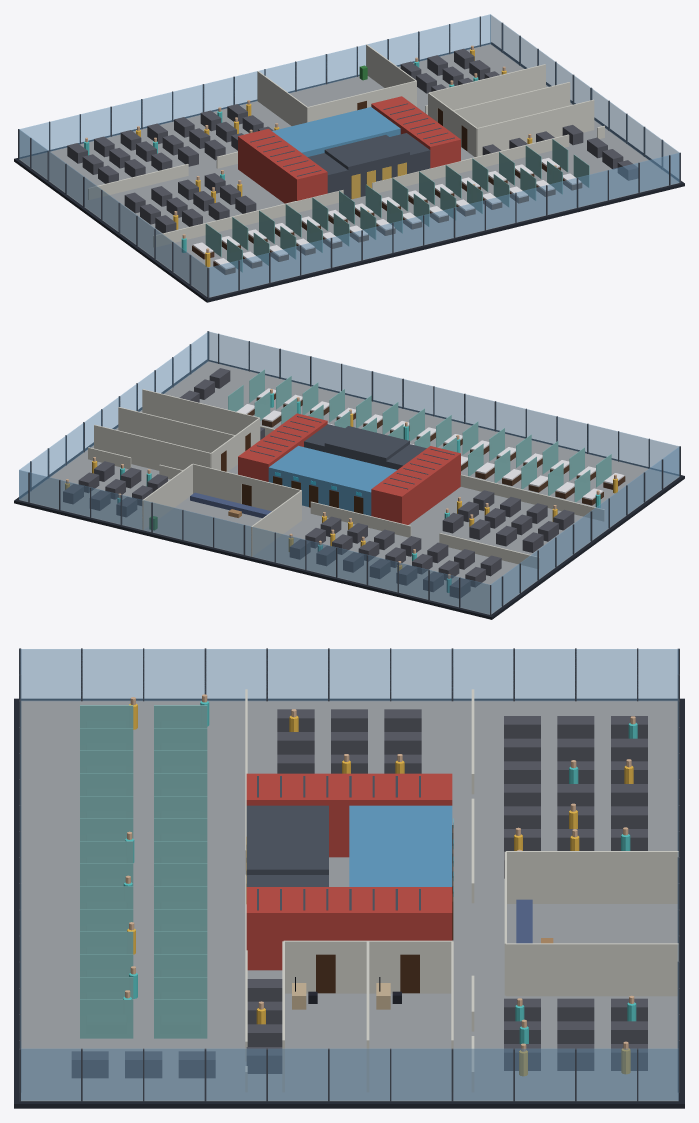
3 renders of one model, top to bottom at view 1: azimuth 30°, elevation 25°; view 2: azimuth 150°, elevation 25°; view 3: azimuth 270°, elevation 25°, orthographic. The views are drawn at different scales.
Visible parts, largest first — view 1: L5_glass, L5_floor_tile, L5_wall, L5_equip, L5_curtain, L5_core, L5_stair, L5_slab, L5_wash, L5_bed, L5_bed_frame, L5_lift; view 2: L5_glass, L5_floor_tile, L5_wall, L5_equip, L5_curtain, L5_core, L5_stair, L5_slab, L5_wash, L5_bed, L5_bed_frame, L5_door_closed (+2 smaller); view 3: L5_floor_tile, L5_glass, L5_curtain, L5_equip, L5_wall, L5_stair, L5_core, L5_slab, L5_wash, L5_door_closed, L5_role_nurse, L5_person_skin (+4 smaller).
Part boxes in pixels (bbox=[...]): L5_glass: bbox=[19, 14, 679, 296]; L5_floor_tile: bbox=[19, 44, 679, 297]; L5_wall: bbox=[88, 44, 604, 247]; L5_equip: bbox=[67, 48, 638, 233]; L5_curtain: bbox=[205, 139, 589, 272]; L5_core: bbox=[18, 16, 680, 298]; L5_stair: bbox=[238, 96, 460, 203]; L5_slab: bbox=[14, 42, 684, 302]; L5_wash: bbox=[272, 107, 400, 156]; L5_bed: bbox=[193, 158, 581, 269]; L5_bed_frame: bbox=[192, 163, 582, 274]; L5_lift: bbox=[351, 162, 406, 199]; L5_glass: bbox=[19, 331, 679, 614]; L5_floor_tile: bbox=[19, 361, 679, 614]; L5_wall: bbox=[88, 389, 604, 568]; L5_equip: bbox=[63, 368, 574, 598]; L5_curtain: bbox=[228, 369, 611, 502]; L5_core: bbox=[28, 331, 680, 615]; L5_stair: bbox=[238, 413, 460, 524]; L5_slab: bbox=[14, 360, 684, 619]; L5_wash: bbox=[268, 445, 396, 515]; L5_bed: bbox=[236, 388, 624, 499]; L5_bed_frame: bbox=[247, 393, 625, 505]; L5_door_closed: bbox=[221, 433, 363, 513]; L5_floor_tile: bbox=[21, 700, 678, 1101]; L5_glass: bbox=[20, 649, 678, 1100]; L5_curtain: bbox=[80, 705, 207, 1038]; L5_equip: bbox=[71, 709, 647, 1078]; L5_wall: bbox=[245, 689, 678, 1092]; L5_stair: bbox=[246, 773, 452, 970]; L5_core: bbox=[19, 648, 679, 1101]; L5_slab: bbox=[14, 698, 684, 1108]; L5_wash: bbox=[349, 805, 452, 886]; L5_door_closed: bbox=[316, 825, 453, 993]; L5_role_nurse: bbox=[123, 701, 637, 1043]; L5_person_skin: bbox=[125, 694, 635, 1051].
Bounding box in the file's own units: 46.6 × 3.37 × 32.6.
